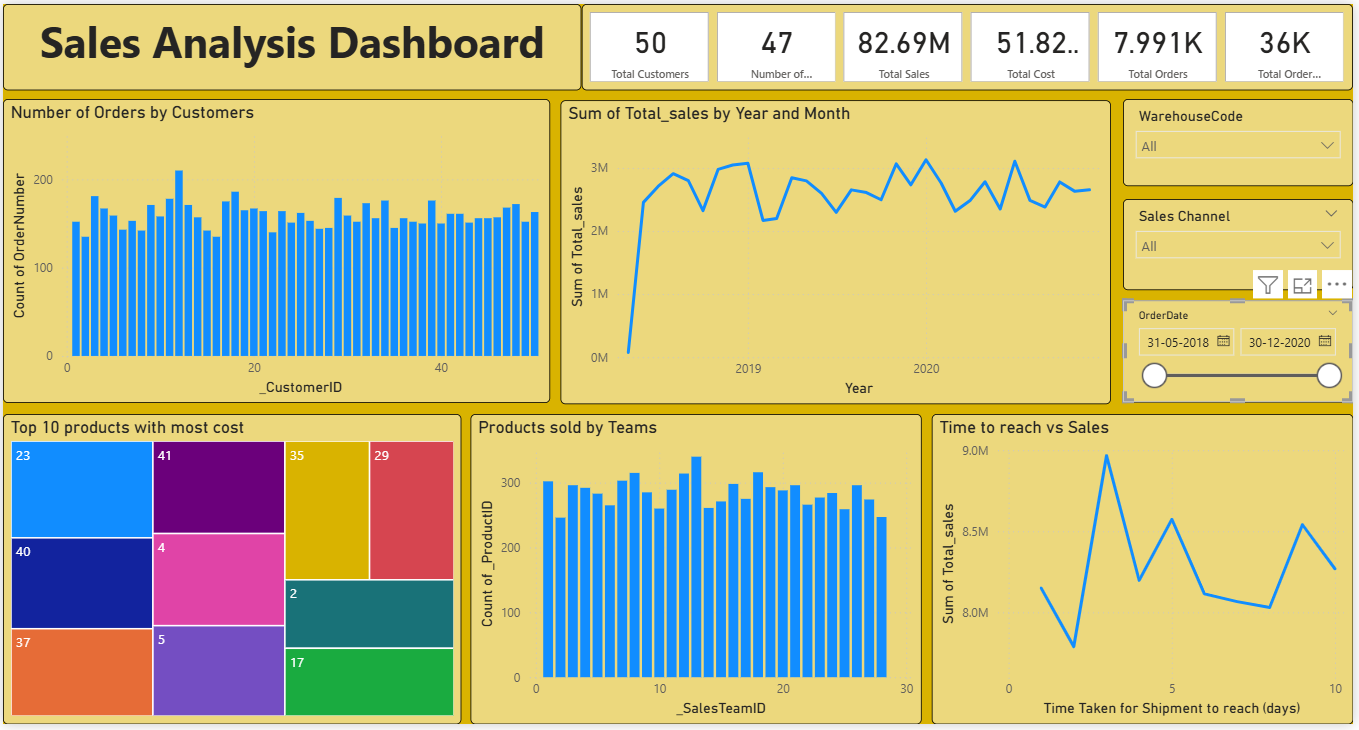

What the dashboard file says about the page in this screenshot:
{"tool":"powerbi","page":{"name":"Page 1","canvas":[1350,720],"ordinal":0},"visuals":[{"type":"lineChart","fields":{"Y":["Sum(US_Regional_Sales_Data.Total_sales)"],"Category":["US_Regional_Sales_Data.OrderDate.Variation.Date Hierarchy.Year","US_Regional_Sales_Data.OrderDate.Variation.Date Hierarchy.Month"]},"box":[557.5,96.2,550,303.8],"z":2000},{"type":"columnChart","title":"Number of Orders by Customers","fields":{"Category":["US_Regional_Sales_Data._CustomerID"],"Y":["CountNonNull(US_Regional_Sales_Data.OrderNumber)"]},"box":[0,95,547.5,303.8],"z":3000},{"type":"cardVisual","fields":{"Data":["Count(US_Regional_Sales_Data._CustomerID)","Count(US_Regional_Sales_Data._ProductID)","Sum(US_Regional_Sales_Data.Total_sales)","Sum(US_Regional_Sales_Data.Total_cost)","Count(US_Regional_Sales_Data.OrderNumber)","Sum(US_Regional_Sales_Data.Order Quantity)"]},"box":[578.8,0,771.2,86.2],"z":4000},{"type":"textbox","box":[0,0,578.8,86.2],"z":5000},{"type":"slicer","fields":{"Values":["US_Regional_Sales_Data.WarehouseCode"]},"box":[1120,95,230,87.5],"z":5001},{"type":"slicer","fields":{"Values":["US_Regional_Sales_Data.Sales Channel"]},"box":[1120,195,230,91.2],"z":5002},{"type":"treemap","title":"Top 10 products with most cost","fields":{"Group":["US_Regional_Sales_Data._ProductID"],"Values":["Sum(US_Regional_Sales_Data.Total_cost)"]},"box":[0,410,458.8,310],"z":5003},{"type":"slicer","fields":{"Values":["US_Regional_Sales_Data.OrderDate"]},"box":[1120,296.2,230,102.5],"z":5004},{"type":"clusteredColumnChart","title":"Products sold by Teams","fields":{"Category":["US_Regional_Sales_Data._SalesTeamID"],"Y":["CountNonNull(US_Regional_Sales_Data._ProductID)"]},"box":[467.5,410,451.2,310],"z":5005},{"type":"lineChart","title":"Time to reach vs Sales","fields":{"Y":["Sum(US_Regional_Sales_Data.Total_sales)"],"Category":["US_Regional_Sales_Data.Time Taken for Shipment to reach"]},"box":[928.8,410,421.2,310],"z":5006}]}

Visuals, with their boxes in screenshot pixels (x1, y1, x2, y2), scaled from the page's 1350x720 canvas onto the 1359x730 screenshot:
lineChart - Sum(US_Regional_Sales_Data.Total_sales) x US_Regional_Sales_Data.OrderDate.Variation.Date Hierarchy.Year: <box>561,98,1115,406</box>
"Number of Orders by Customers" columnChart: <box>0,96,551,404</box>
cardVisual - Count(US_Regional_Sales_Data._CustomerID) x Count(US_Regional_Sales_Data._ProductID): <box>583,0,1358,87</box>
textbox: <box>0,0,583,87</box>
slicer - US_Regional_Sales_Data.WarehouseCode: <box>1127,96,1358,185</box>
slicer - US_Regional_Sales_Data.Sales Channel: <box>1127,198,1358,290</box>
"Top 10 products with most cost" treemap: <box>0,416,462,729</box>
slicer - US_Regional_Sales_Data.OrderDate: <box>1127,300,1358,404</box>
"Products sold by Teams" clusteredColumnChart: <box>471,416,925,729</box>
"Time to reach vs Sales" lineChart: <box>935,416,1358,729</box>
